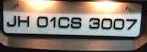numberplate: (2, 1, 141, 37)
